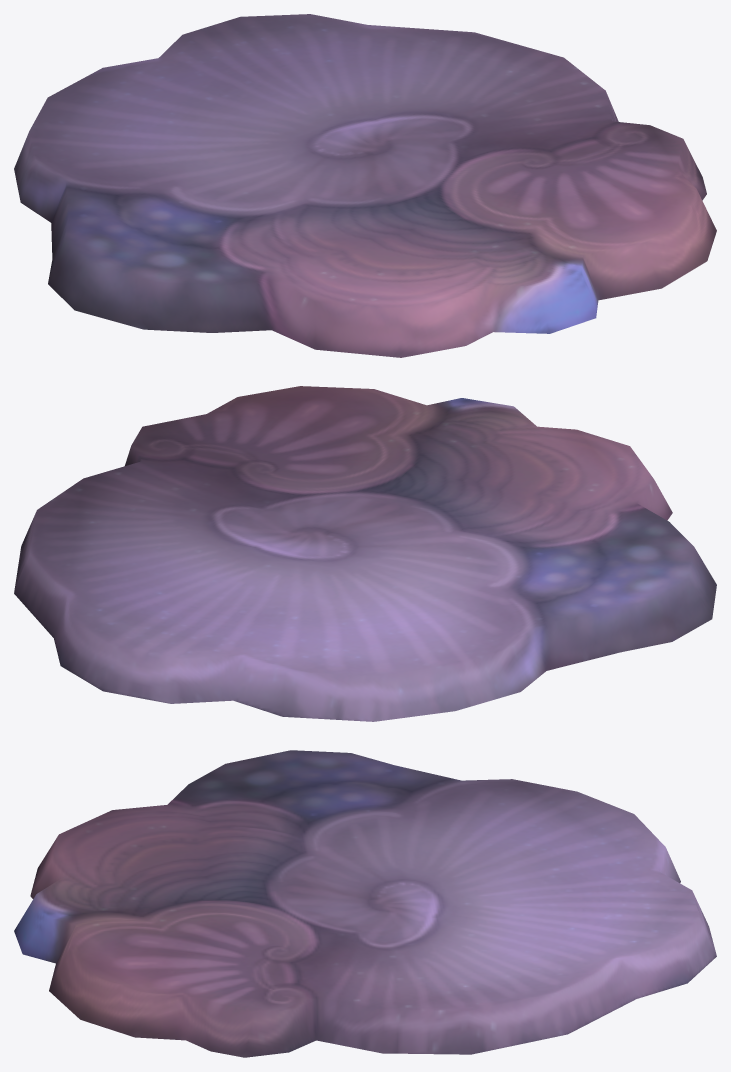
File: Map_09_stone01.FBX
The picture shows the model from 3 angles, top to bottom: view 1: azimuth 30°, elevation 25°; view 2: azimuth 150°, elevation 25°; view 3: azimuth 270°, elevation 25°; orthographic projection. The views are drawn at different scales.
Parts seen in each view (by area): view 1: Map_09_stone01; view 2: Map_09_stone01; view 3: Map_09_stone01.
Part boxes in pixels (x1,y1,x2,y2): Map_09_stone01: (14,14,716,357); Map_09_stone01: (14,386,716,721); Map_09_stone01: (14,750,716,1057).
Bounding box in the file's own units: 346 × 21.06 × 367.
